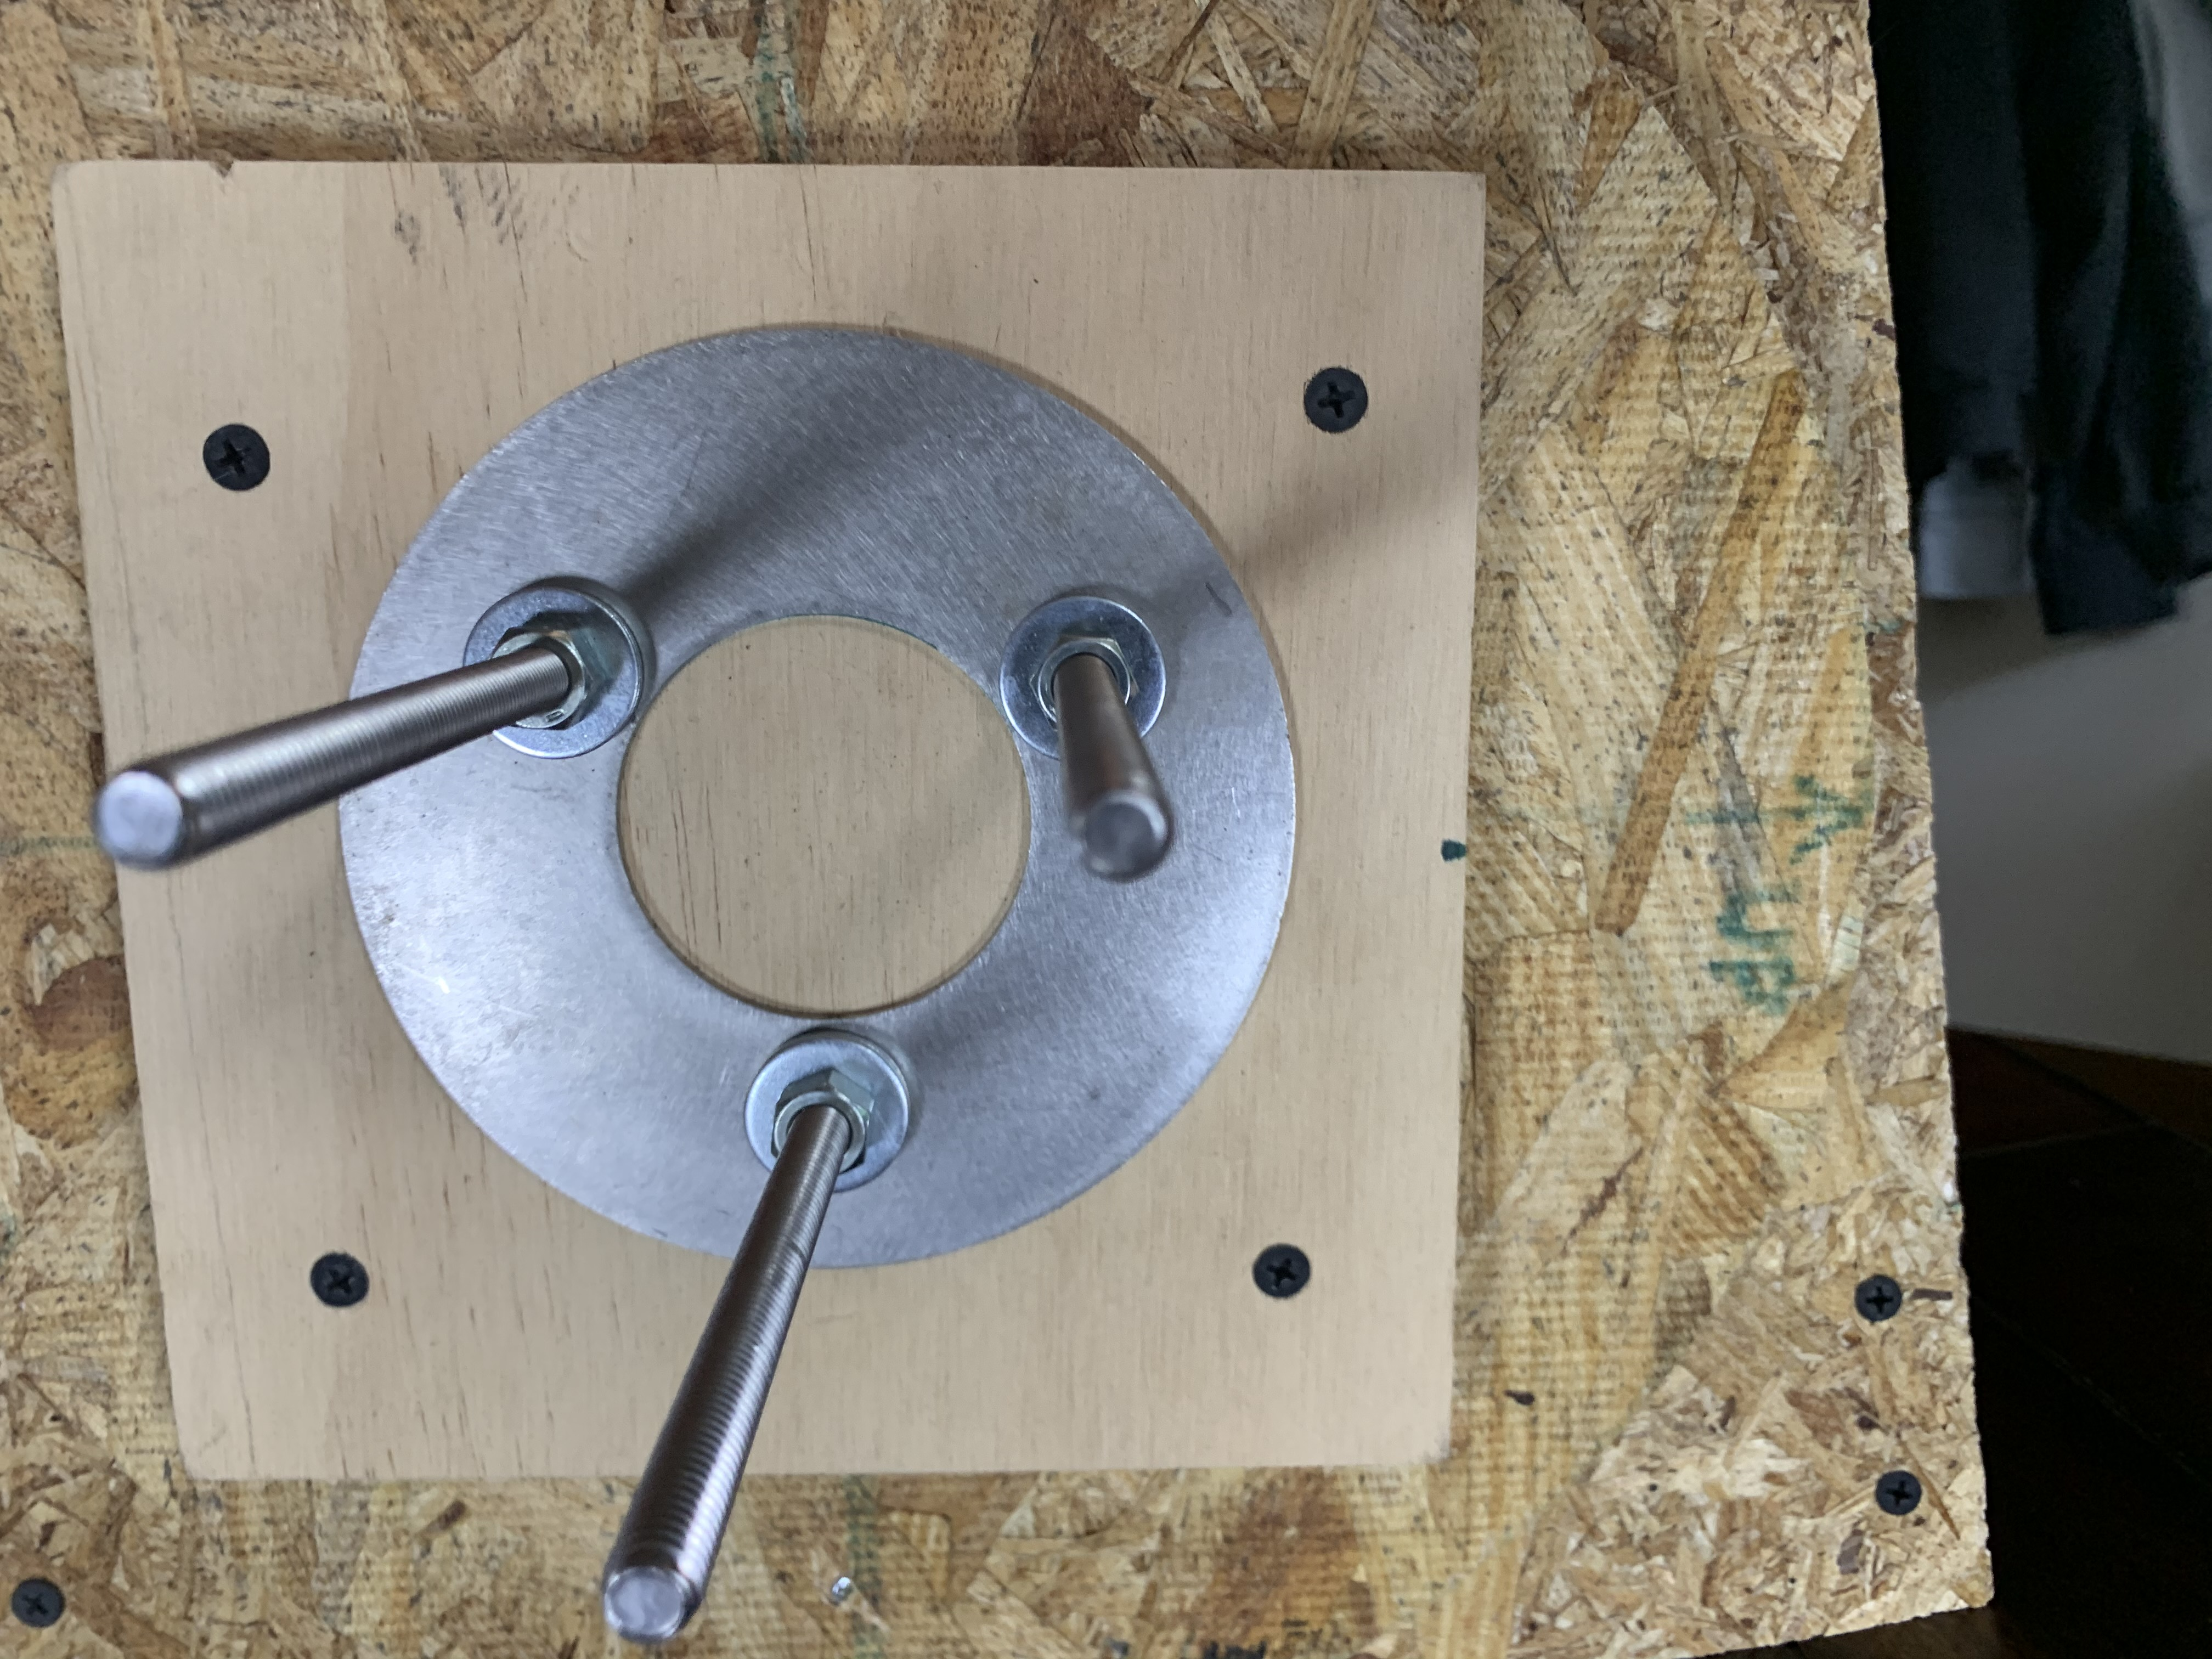bolt: (458, 579, 653, 756), (742, 1021, 921, 1190), (996, 589, 1169, 755)
